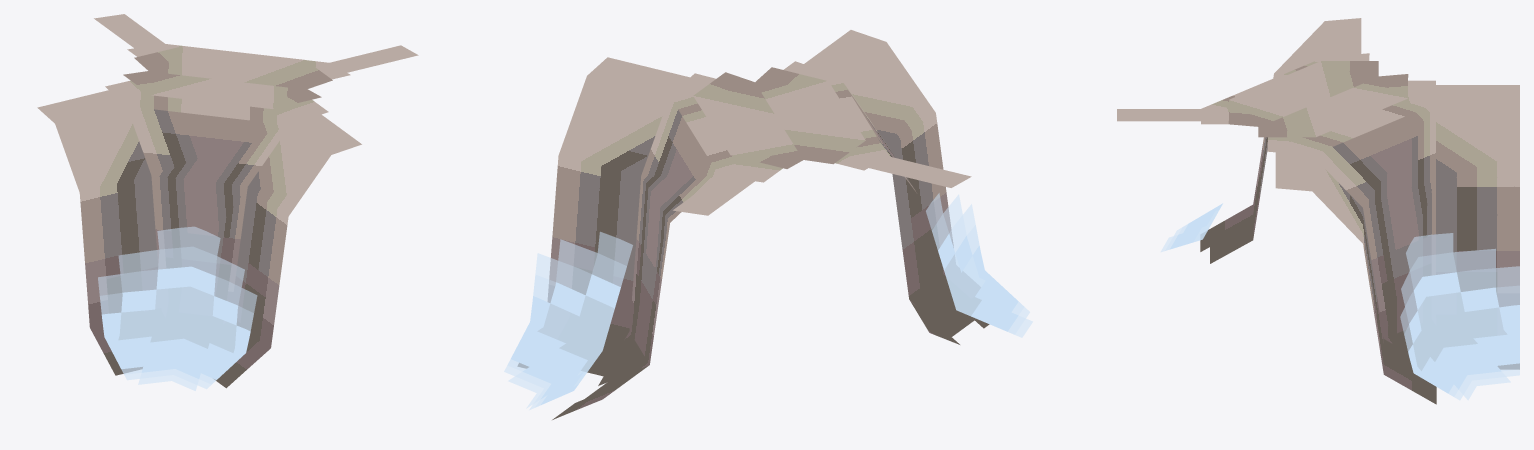
3 views of the same model, side by side, from view 1: azimuth 30°, elevation 25°; view 2: azimuth 150°, elevation 25°; view 3: azimuth 270°, elevation 25° (orthographic). The views are drawn at different scales.
Size of the model in its own units: 1 by 0.6892 by 1.
Materials: 2 (2 with a texture image).
